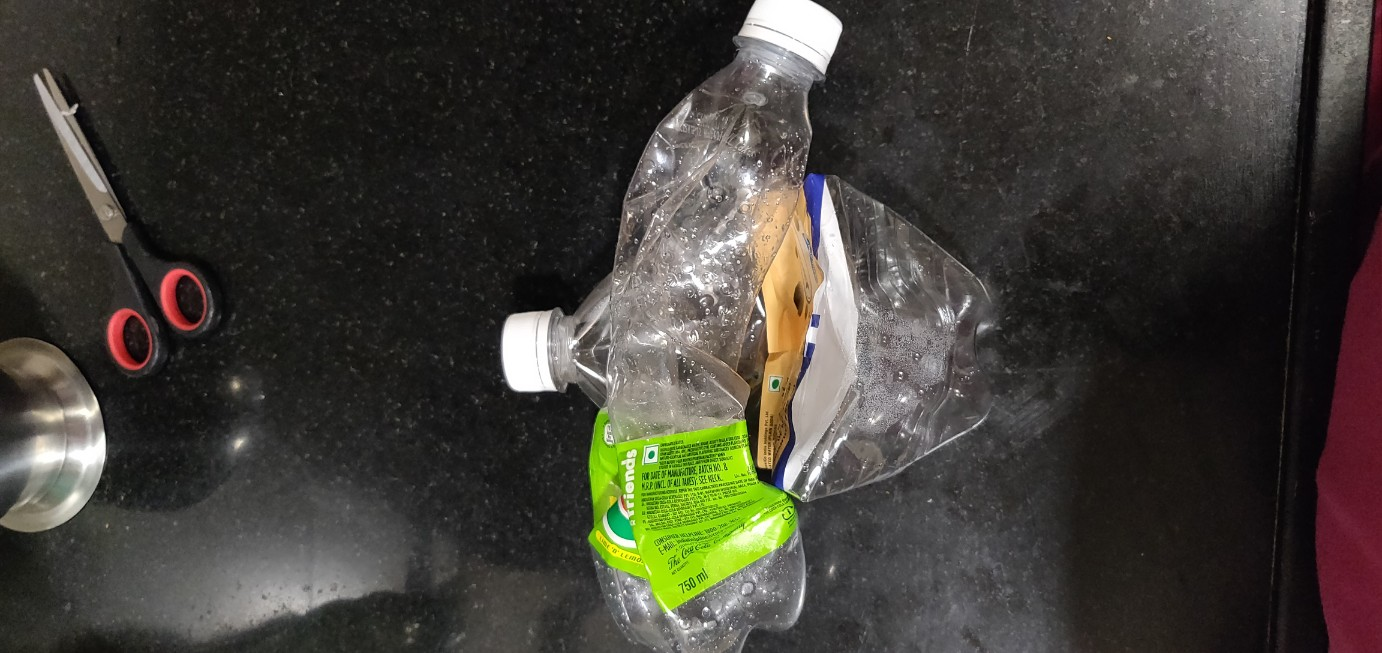Electronics: (551, 1, 880, 653)
